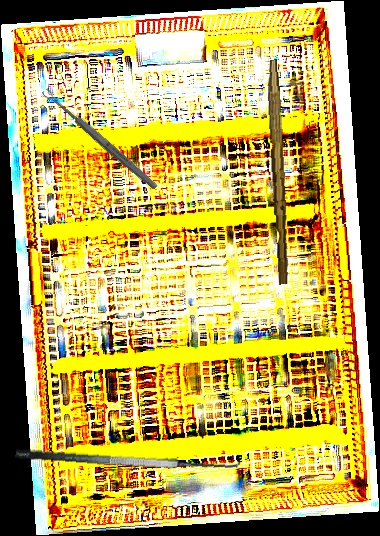Scalpel Handle: (261, 59, 294, 285)
Spatula Surgical: (15, 429, 241, 479)
Surgical Spoon: (40, 86, 160, 192)
